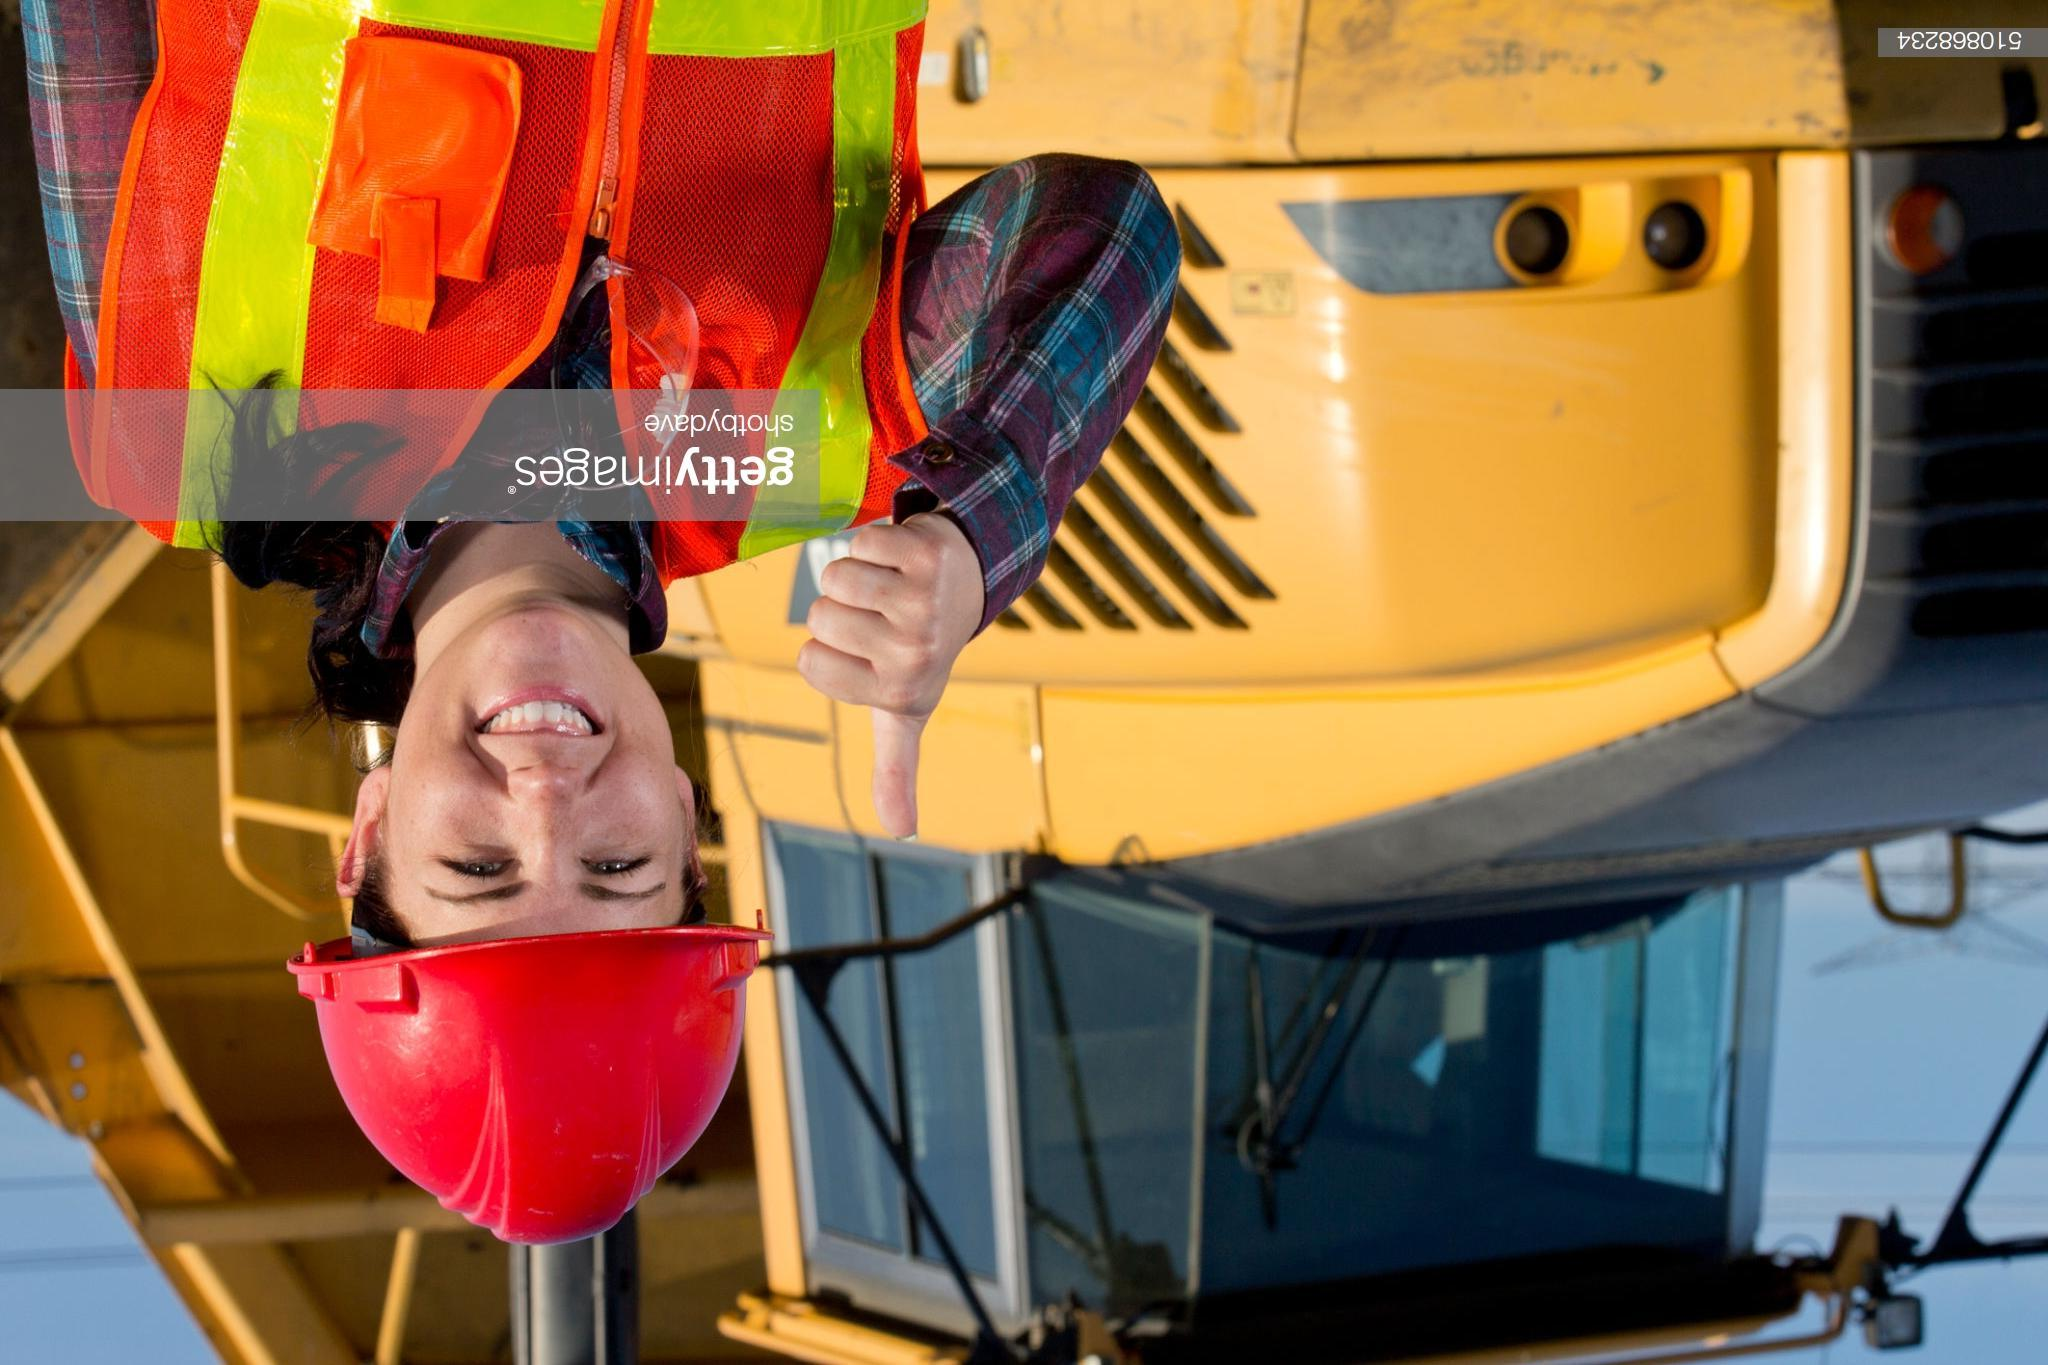thumbsdown: (796, 527, 956, 844)
